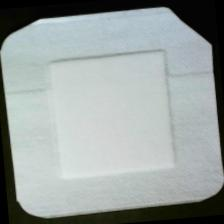Cut: (1, 1, 224, 223)
